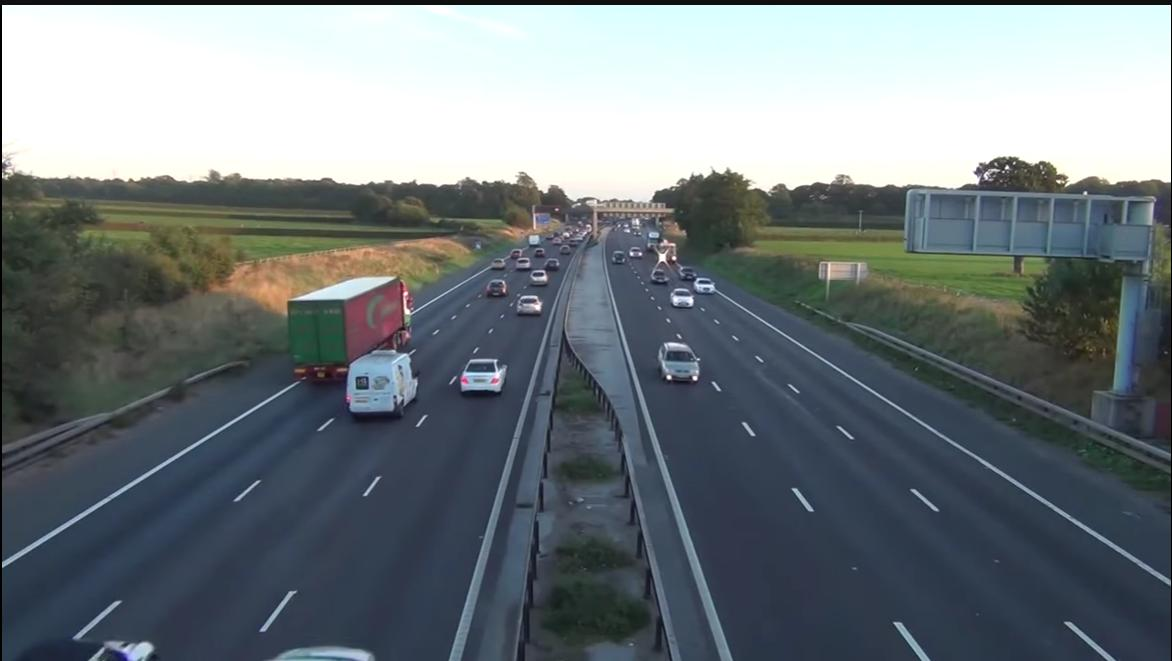car: (644, 327, 742, 421)
truck: (266, 246, 489, 351)
van: (344, 346, 420, 439)
